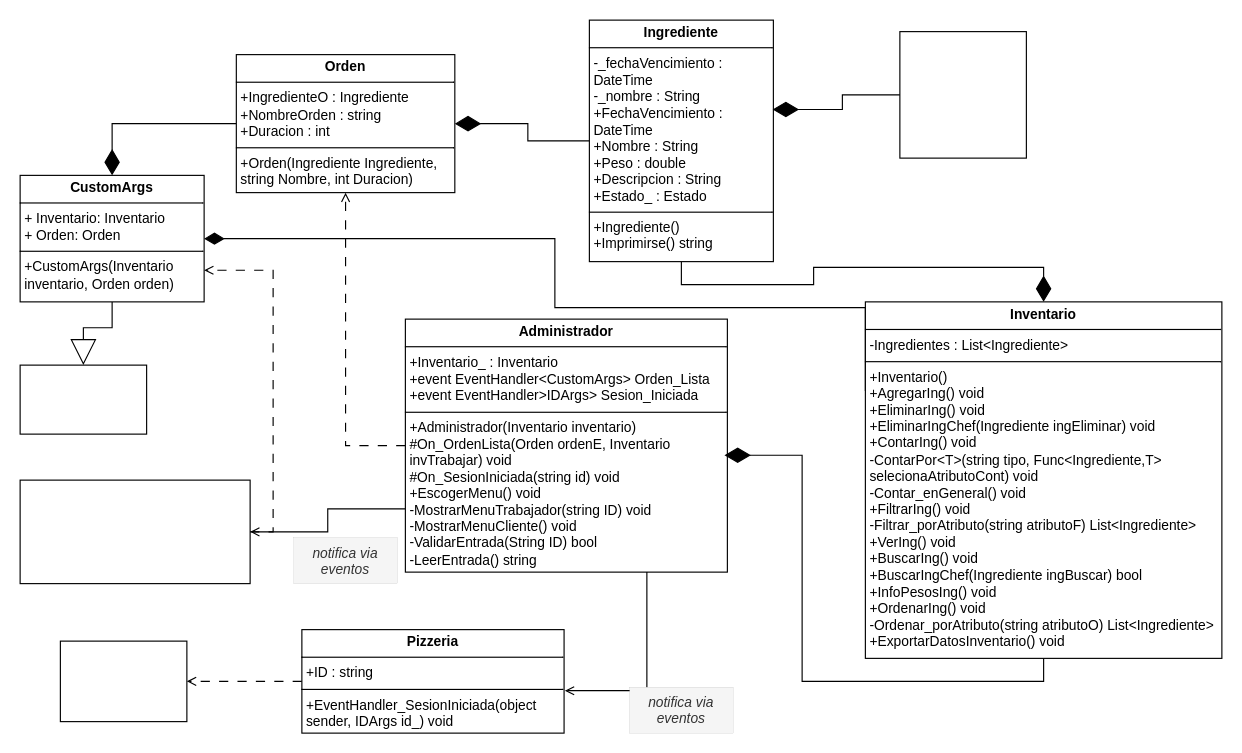
Image size: 1242x753. Some labels were removed from this diagram. Each missing label, with the box of its shape:
<<.NET Framework>> EventArgs: (19, 364, 147, 434)
<<enumeration>> Estado Principal Secundario Decorativo: (899, 30, 1026, 158)
Chef +EventHandler_OrdenLista(object sender, CustomArgs c) void: (19, 479, 250, 584)
IDArgs +ID : string: (59, 640, 187, 722)
